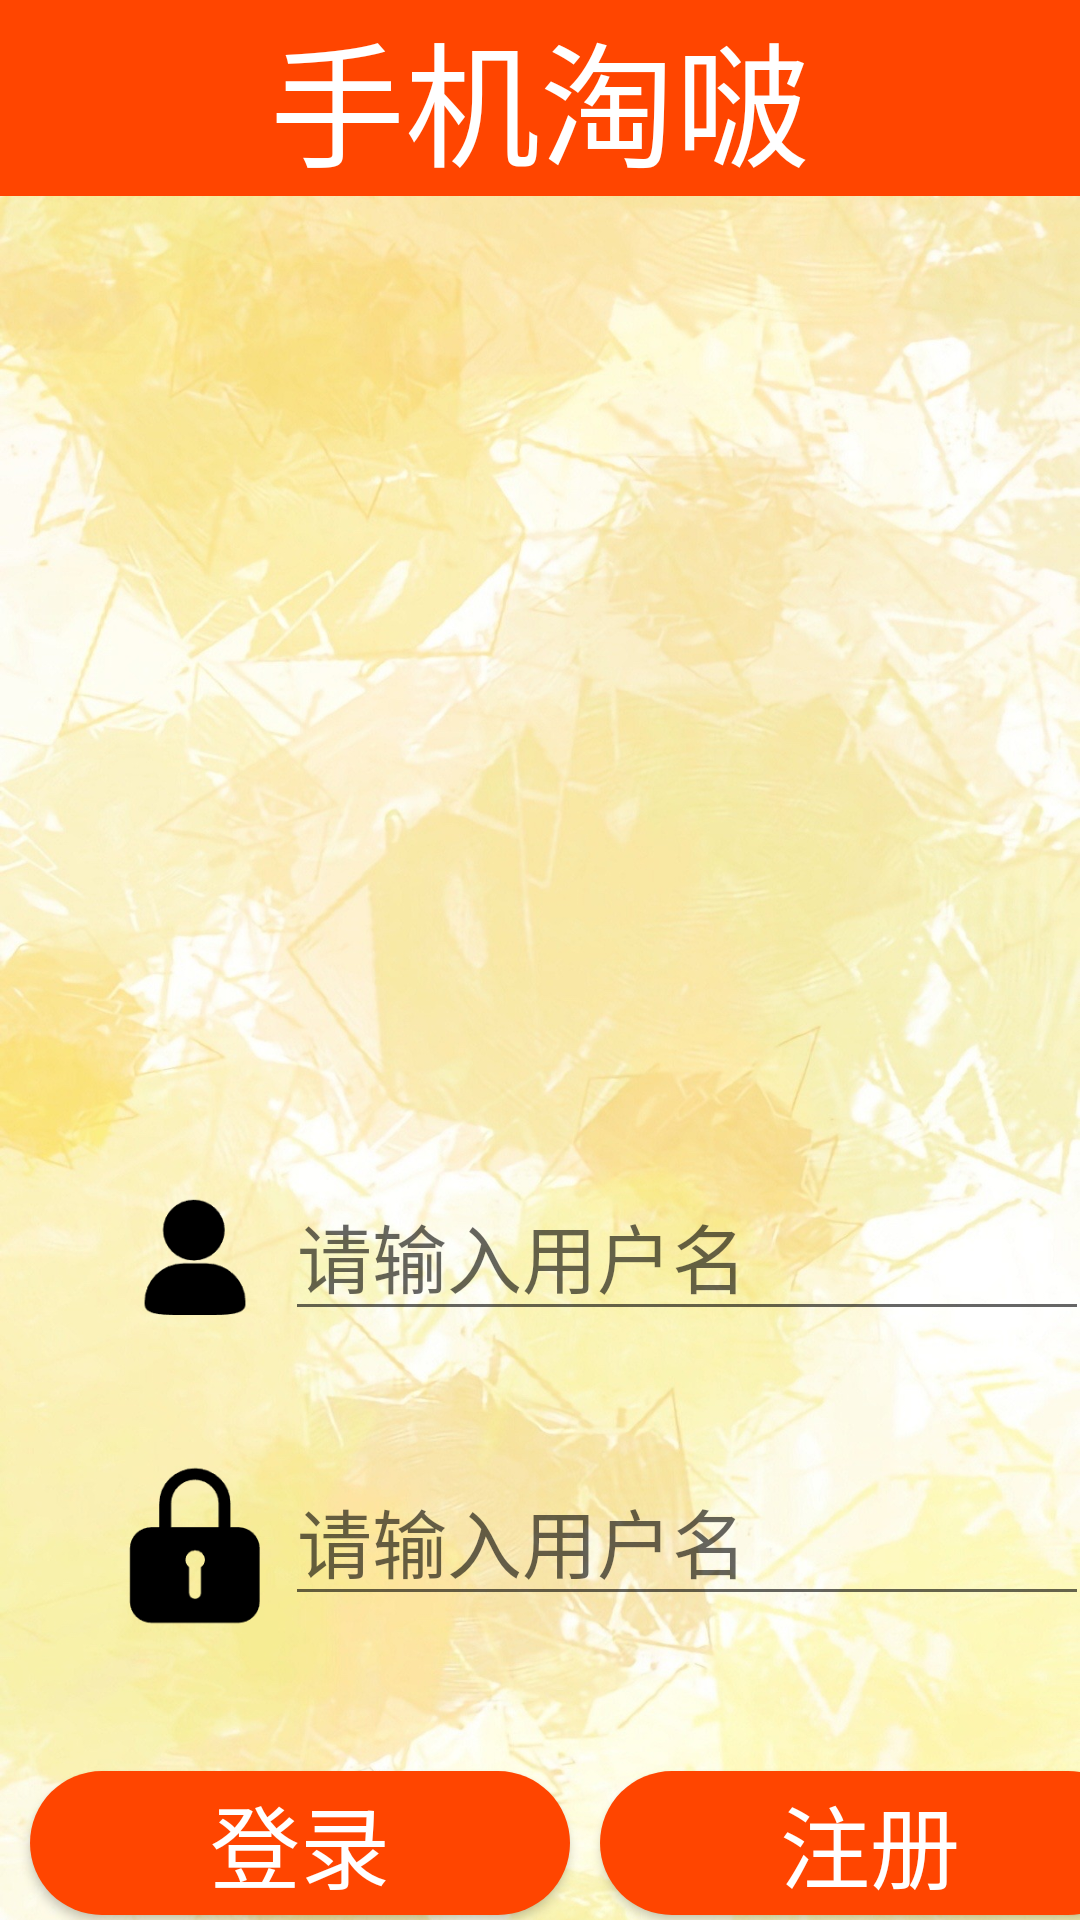

Icon click points for this 1080x1920 phone screenshot, format point (x, y):
user: point (202, 1248)
